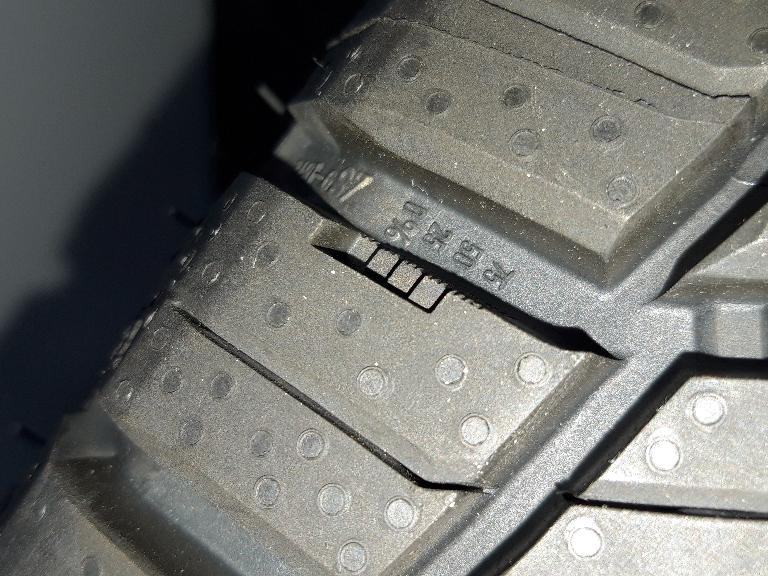temoin:100: (302, 212, 490, 330)
